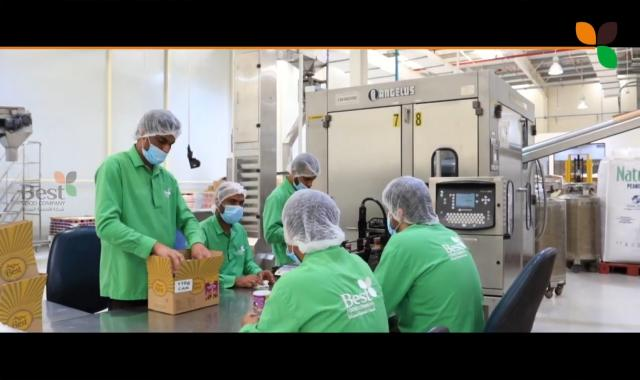hairnet: (281, 190, 344, 254), (378, 174, 440, 230), (135, 109, 178, 147), (214, 180, 246, 214), (288, 151, 320, 181)
